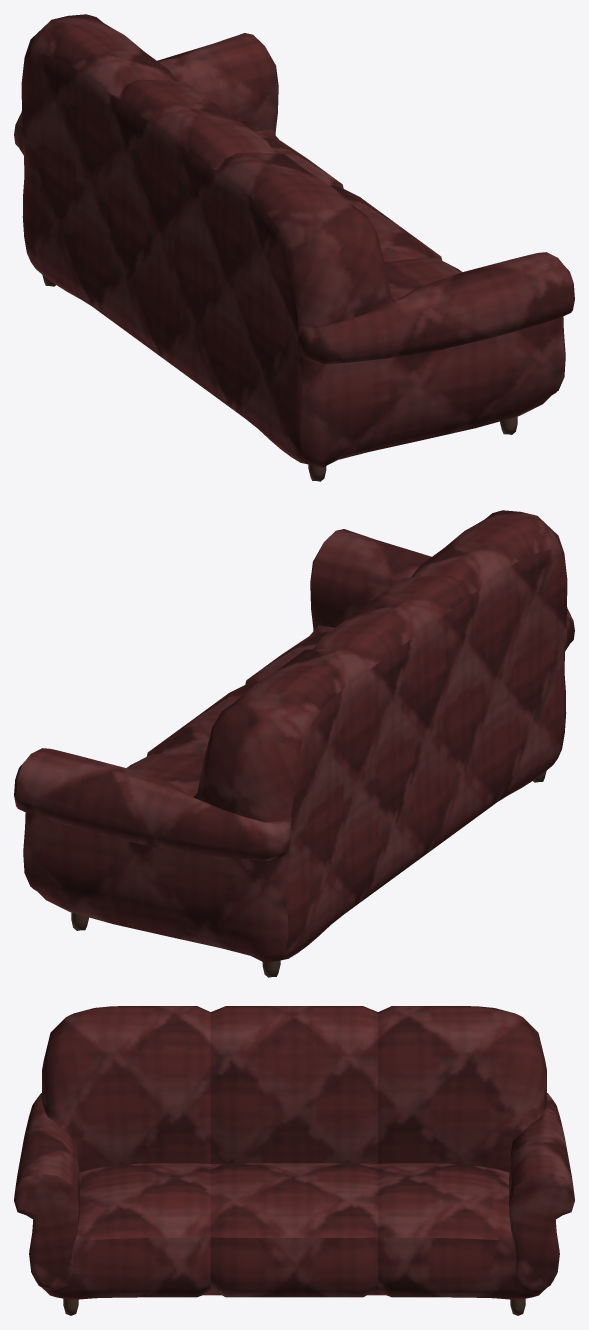
Rendered from STFbig_sofa.glb.
3 renders of one model, top to bottom at view 1: azimuth 30°, elevation 25°; view 2: azimuth 150°, elevation 25°; view 3: azimuth 270°, elevation 25°, orthographic. The views are drawn at different scales.
Parts seen in each view (by area): view 1: STFbig_sofa; view 2: STFbig_sofa; view 3: STFbig_sofa.
Boxes of the visible parts, box(x1,y1,x2,y2) form: STFbig_sofa: box(14, 14, 574, 481); STFbig_sofa: box(14, 510, 574, 977); STFbig_sofa: box(14, 1006, 574, 1315).
Size of the model in its own units: 0.9044 by 0.9312 by 2.08.
2 materials, 2 textured.
